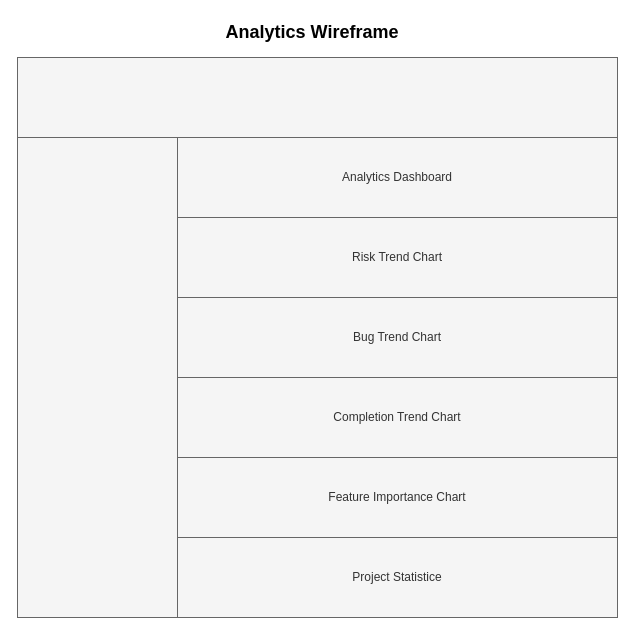
This 635x635 diagram has some shape labels left out. Here are the shapes that lost their labels. From the top down, the centre of each, then its label:
At (317,97): "Top Navigation".
At (97,377): "Sidebar".
